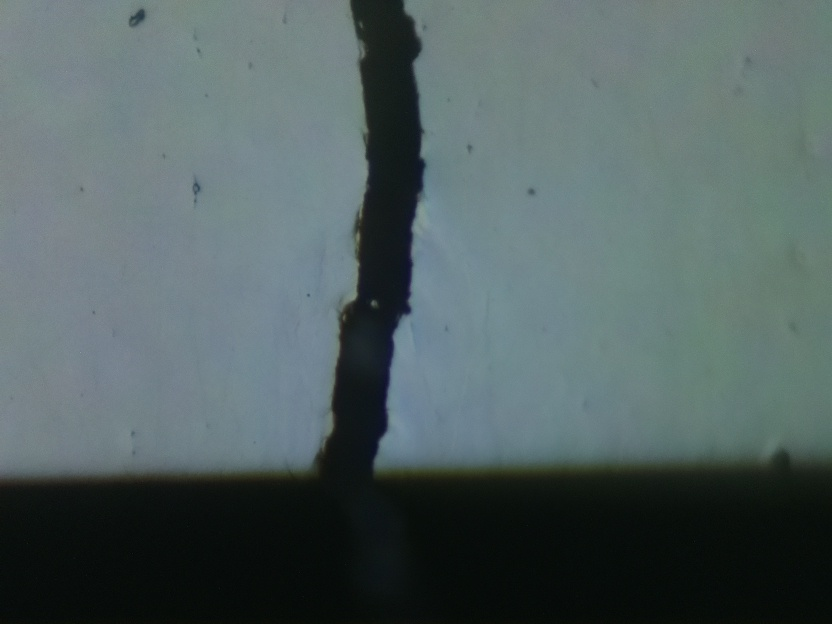crack: (308, 0, 427, 475)
